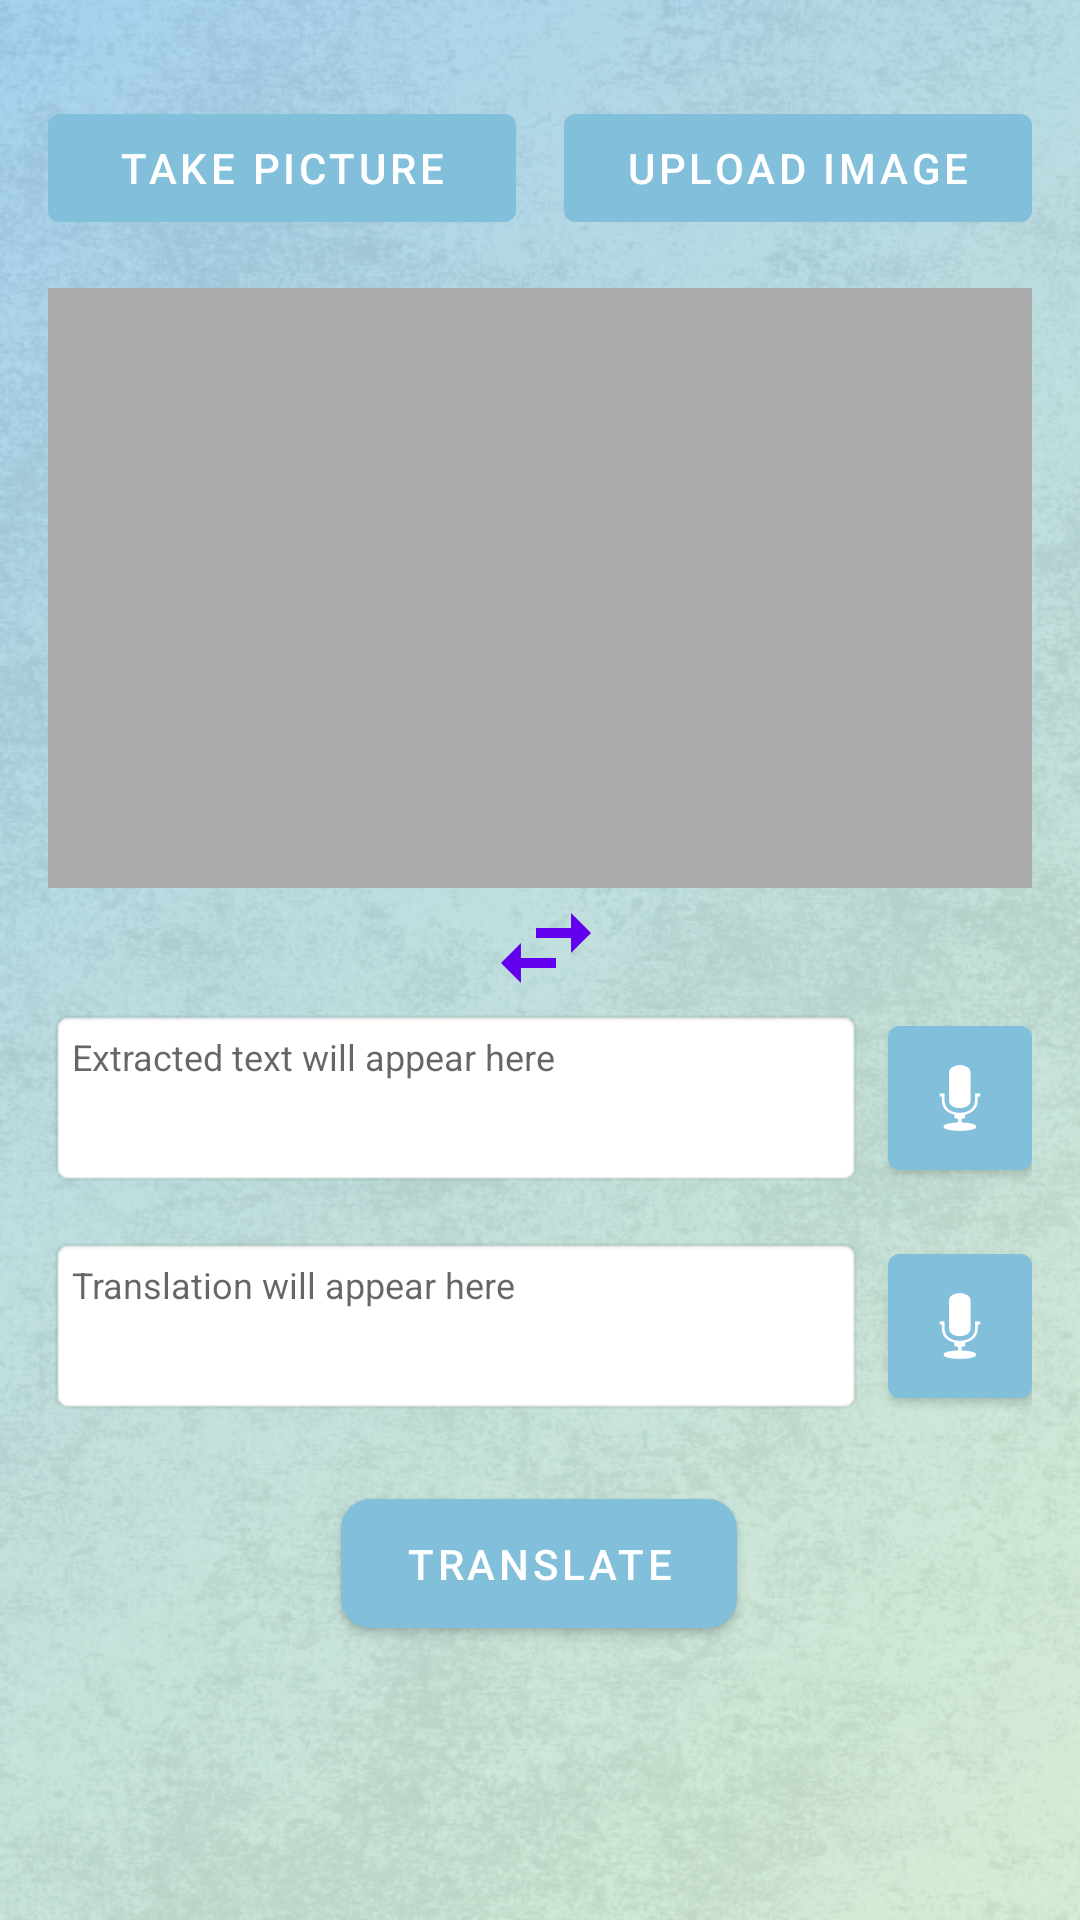

Screen size 1080px x 1920px. Icon name, then its box in pixels as (x1=x1, y1=y1, x2=x2, y2=y2):
bidirectional arrow: (x1=501, y1=913, x2=591, y2=983)
Speak text: (x1=888, y1=1026, x2=1032, y2=1170)
Speak translated text: (x1=888, y1=1254, x2=1032, y2=1398)
